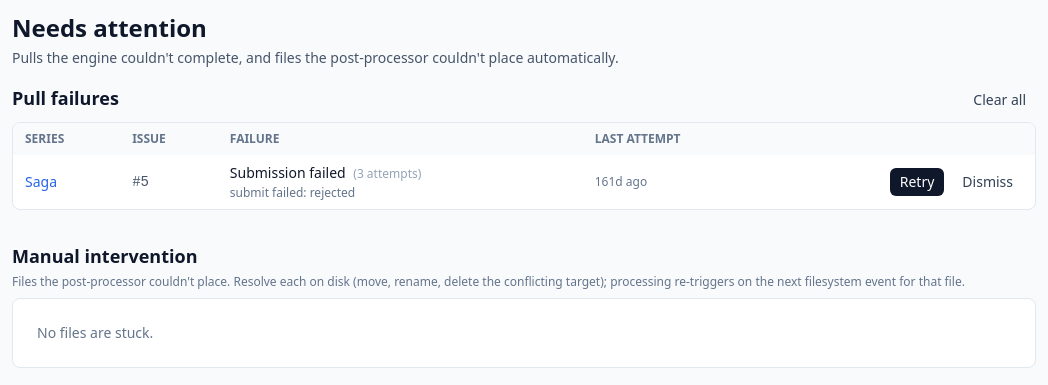
Scenario: needs-attention page › retries a pull failure and drops the row
Step 1. Click the button "Retry" → (917, 182), box [890,168,944,196]
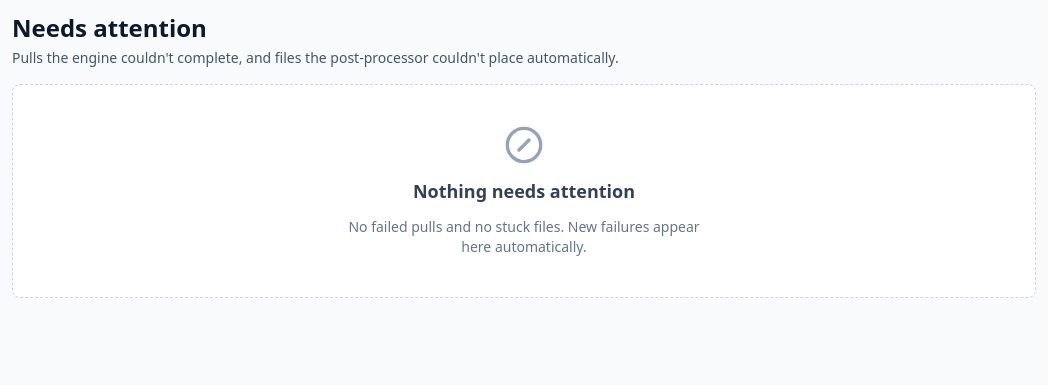
Expected: the link "Saga" is gone
